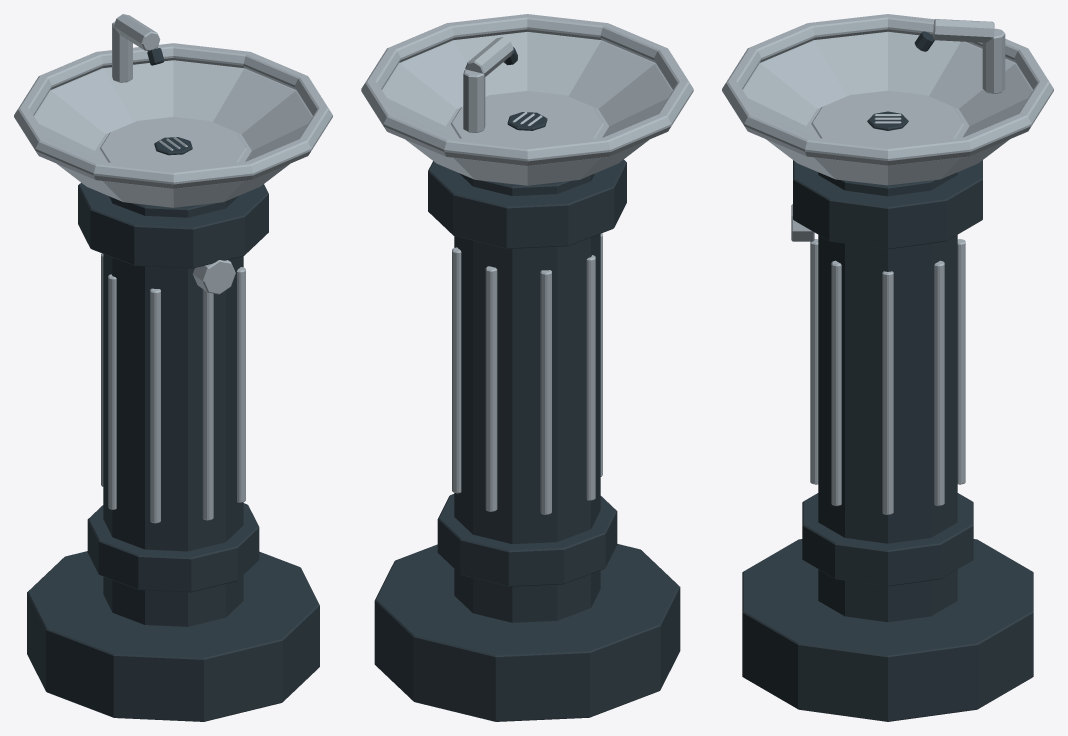
The model's file is b01_classic_pedestal_drinking_fountain.glb.
3 views of the same model, side by side, from view 1: azimuth 30°, elevation 25°; view 2: azimuth 150°, elevation 25°; view 3: azimuth 270°, elevation 25° (orthographic). The views are drawn at different scales.
Parts seen in each view (by area): view 1: b01_classic_pedestal_drinking_fountain; view 2: b01_classic_pedestal_drinking_fountain; view 3: b01_classic_pedestal_drinking_fountain.
Boxes of the visible parts, x1,y1,x2,y2 form: b01_classic_pedestal_drinking_fountain: (14,14,332,721); b01_classic_pedestal_drinking_fountain: (361,14,693,721); b01_classic_pedestal_drinking_fountain: (722,14,1053,721).
Size of the model in its own units: 0.498 by 1.06 by 0.498.
